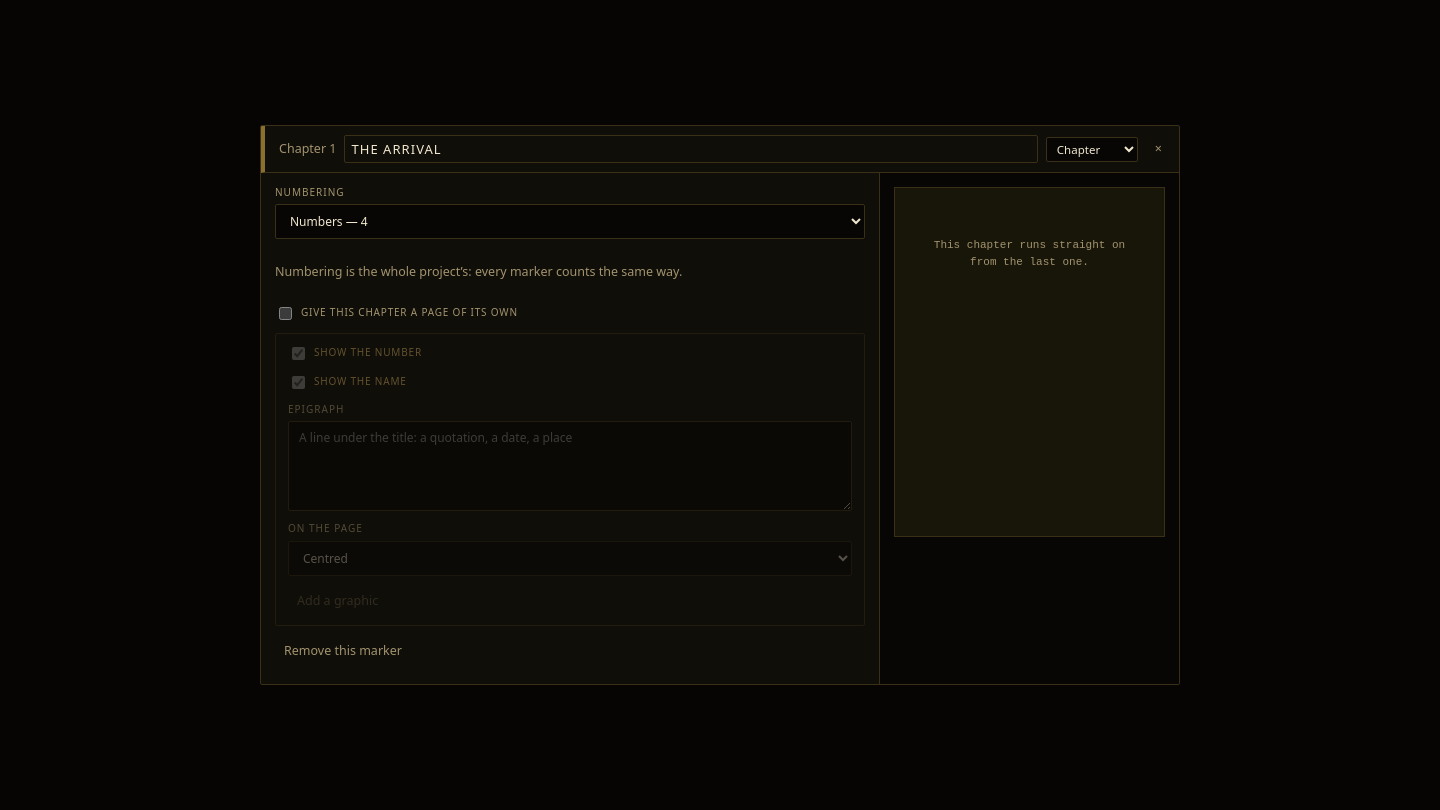
Test case: what opens from a marker › changes the numbering for the whole project at once, as a book must
Step 1. Click the checkbox labelled "Give this chapter a page of its own" → (286, 313), box [279, 307, 292, 320]
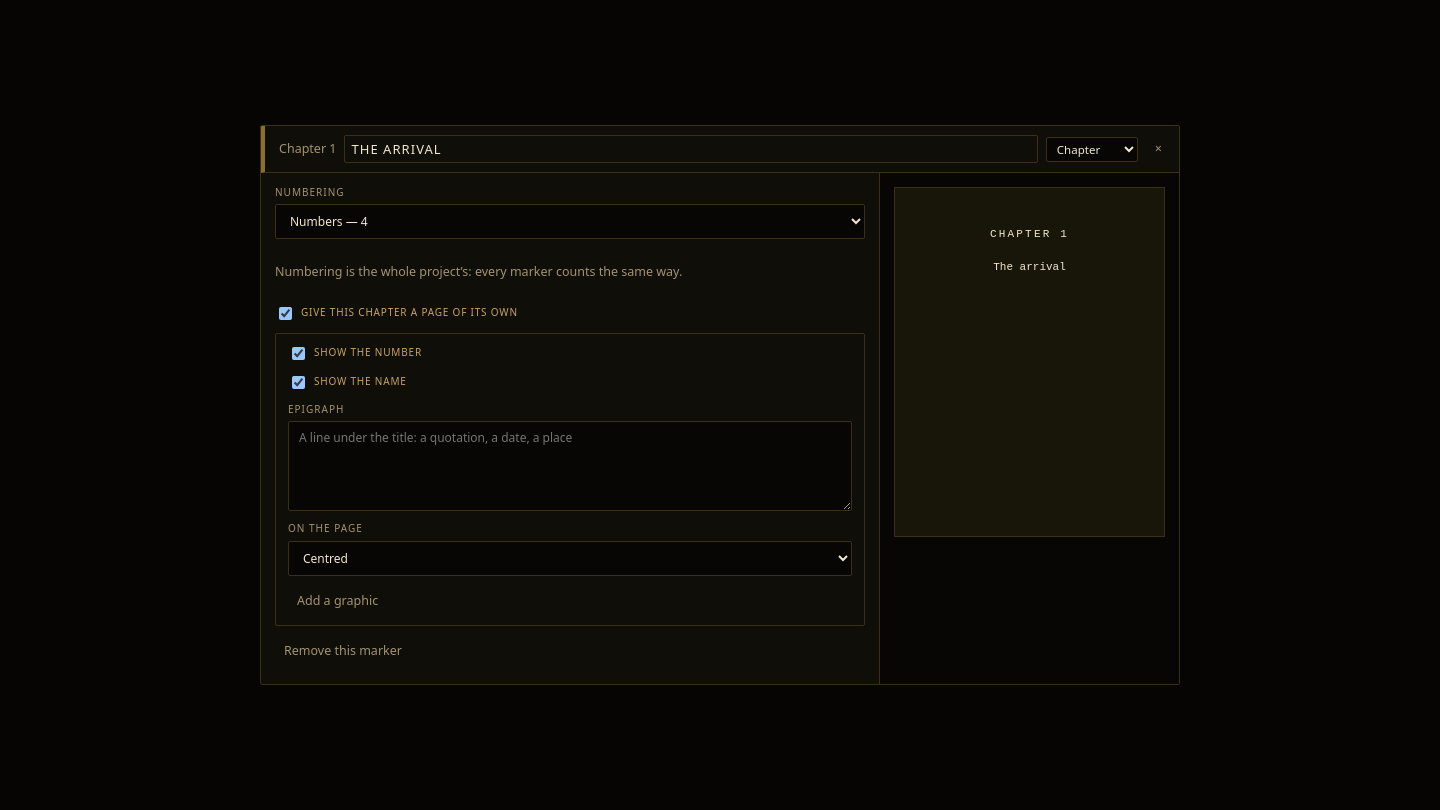
Now the 2nd text "Chapter 1" is shown, box [990, 228, 1069, 240]
Step 2. Select "Roman numerals — IV" in the dropdown labelled "Numbering" → (570, 222), box [275, 204, 865, 239]
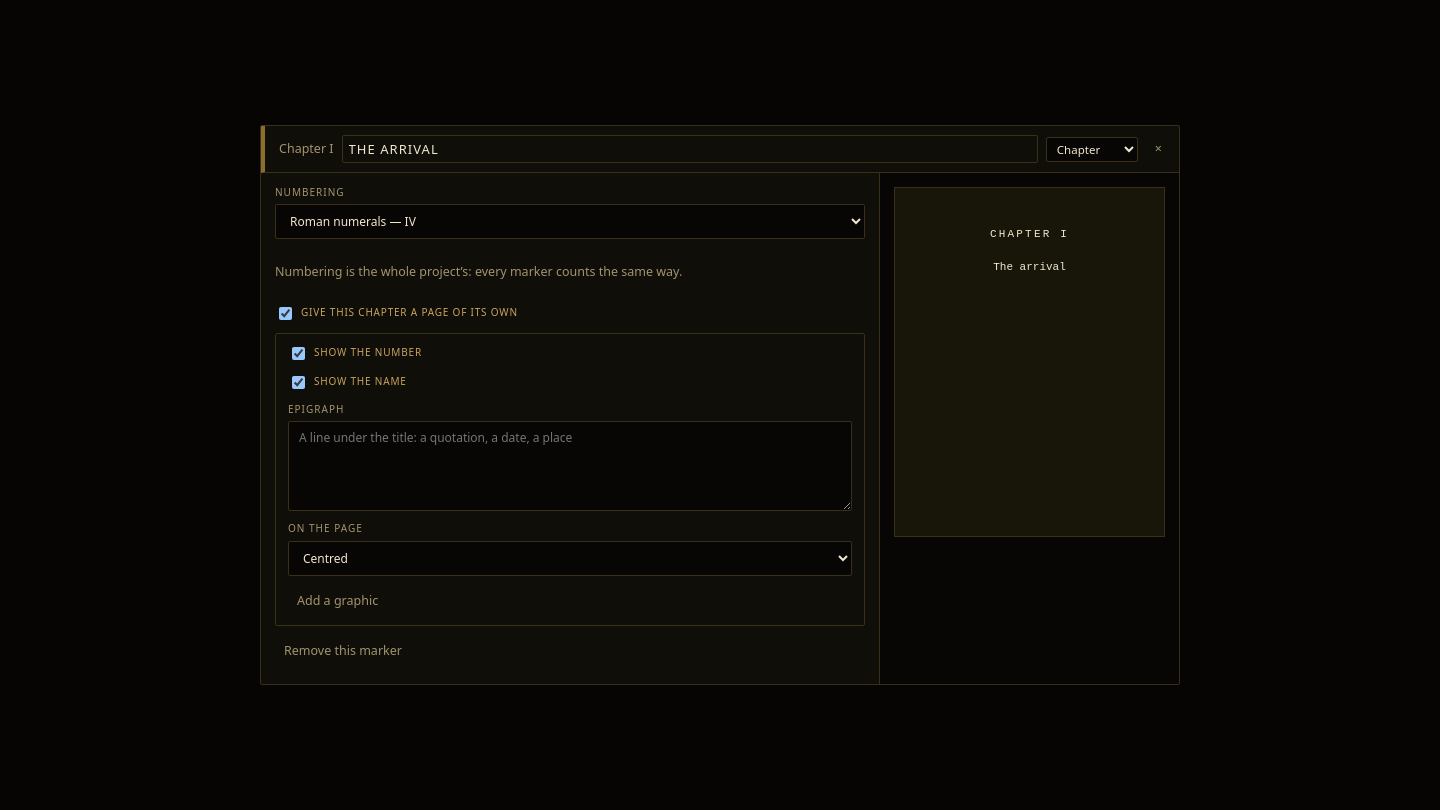
Now the 2nd text "Chapter I" is shown, box [990, 228, 1069, 240]
Step 3. Select "Words — Four" in the dropdown labelled "Numbering" → (570, 222), box [275, 204, 865, 239]
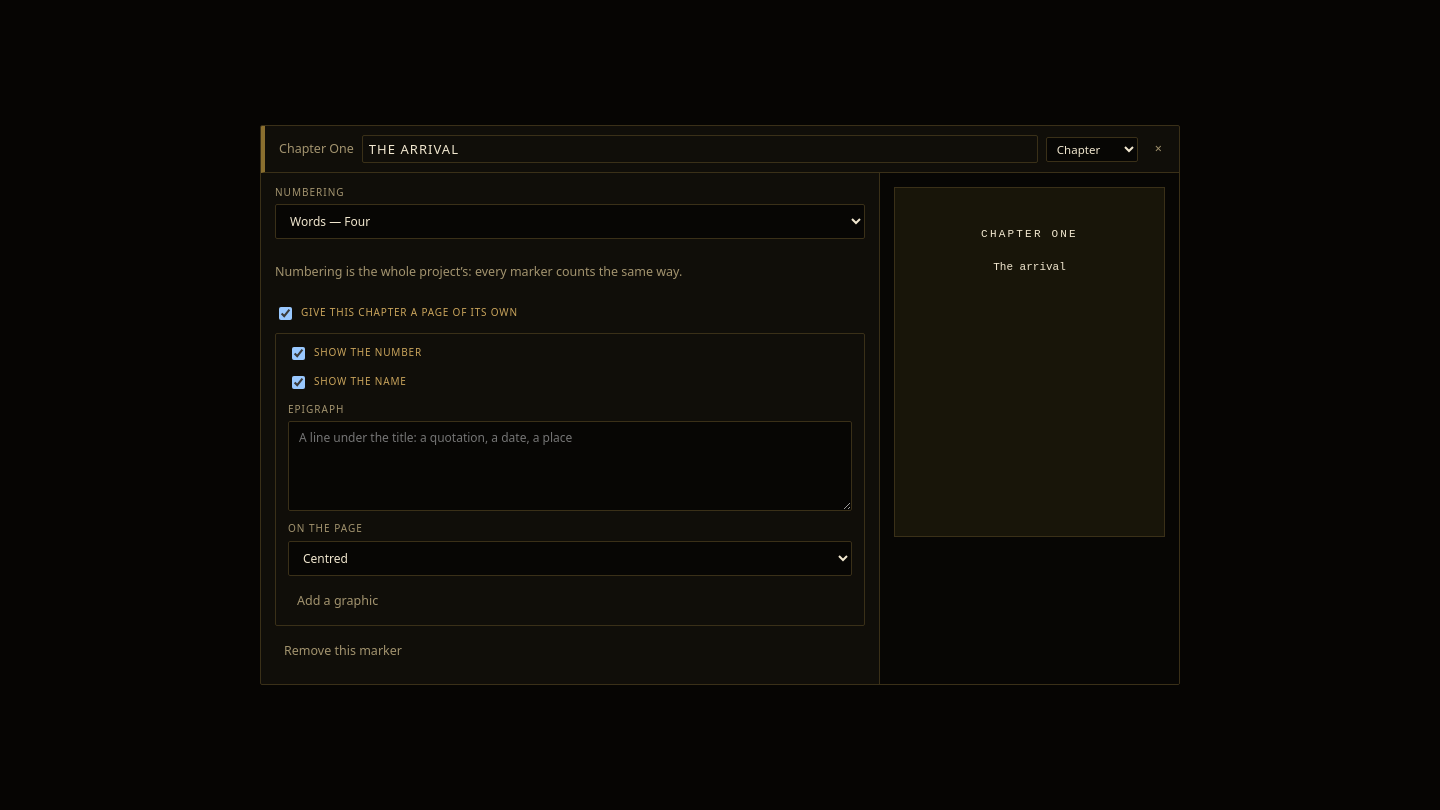
Now the 2nd text "Chapter One" is shown, box [981, 228, 1078, 240]
